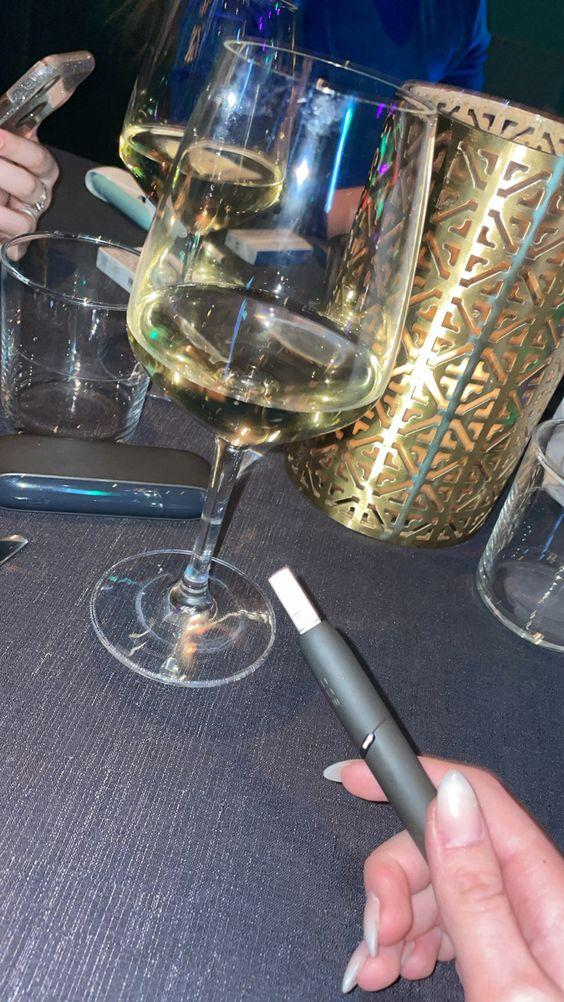iqos: (270, 567, 436, 858)
